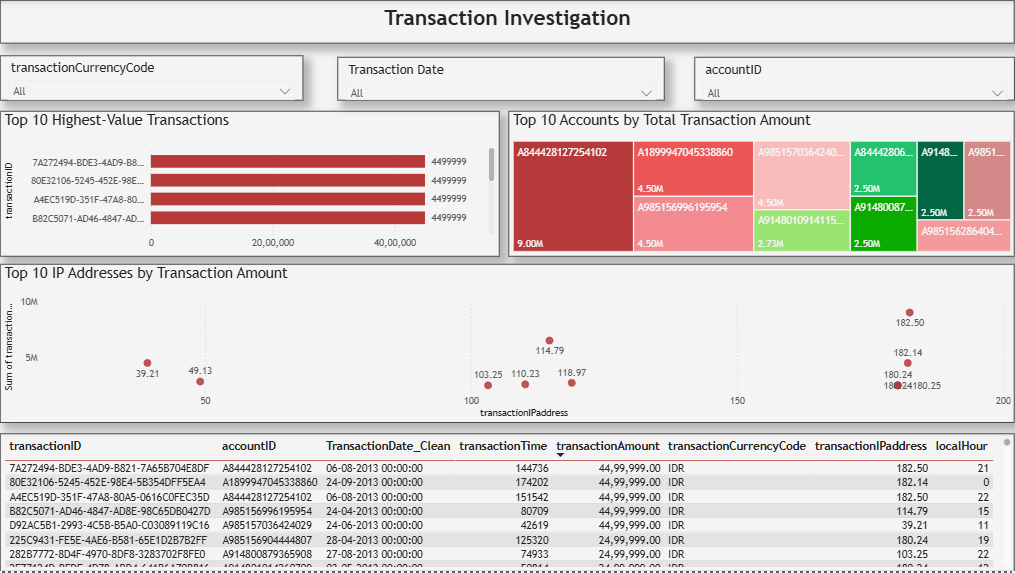

The dashboard page shown, as its layout file describes it:
{"tool":"powerbi","page":{"name":"Transaction Investigation","canvas":[1280,720],"ordinal":2},"visuals":[{"type":"textbox","box":[0,0,1279.4,54.8],"z":0},{"type":"tableEx","fields":{"Values":["fraudanalytics fraud_transactions.transactionID","fraudanalytics fraud_transactions.accountID","fraudanalytics fraud_transactions.TransactionDate_Clean","fraudanalytics fraud_transactions.transactionTime","fraudanalytics fraud_transactions.transactionAmount","fraudanalytics fraud_transactions.transactionCurrencyCode","fraudanalytics fraud_transactions.transactionIPaddress","fraudanalytics fraud_transactions.localHour"]},"box":[0,546.1,1279.4,173.9],"z":1000},{"type":"slicer","fields":{"Values":["fraudanalytics fraud_transactions.transactionCurrencyCode"]},"box":[0,69.9,381.7,56.7],"z":2000},{"type":"slicer","fields":{"Values":["fraudanalytics fraud_transactions.accountID"]},"box":[875,71.8,404.4,54.8],"z":3000},{"type":"clusteredBarChart","title":"Top 10 Highest-Value Transactions","fields":{"Y":["Max(fraudanalytics fraud_transactions.transactionAmount)"],"Category":["fraudanalytics fraud_transactions.transactionID"]},"box":[0,139.8,629.3,183.3],"z":4000},{"type":"slicer","title":"Transaction Date","fields":{"Values":["fraudanalytics fraud_transactions.TransactionDate_Clean"]},"box":[425.2,71.8,412,54.8],"z":5000},{"type":"treemap","title":"Top 10 Accounts by Total Transaction Amount","fields":{"Values":["Sum(fraudanalytics fraud_transactions.transactionAmount)"],"Group":["fraudanalytics fraud_transactions.accountID"]},"box":[640.6,139.8,638.7,183.3],"z":6000},{"type":"scatterChart","title":"Top 10 IP Addresses by Transaction Amount","fields":{"Y":["Sum(fraudanalytics fraud_transactions.transactionAmount)"],"X":["fraudanalytics fraud_transactions.transactionIPaddress"]},"box":[0,332.6,1279.4,200.3],"z":7000}]}

Visuals, with their boxes in screenshot pixels (x1, y1, x2, y2), scaled from the page's 1280x720 canvas onto the 1015x573 screenshot:
textbox: {"x1": 0, "y1": 0, "x2": 1014, "y2": 44}
tableEx - fraudanalytics fraud_transactions.transactionID x fraudanalytics fraud_transactions.accountID: {"x1": 0, "y1": 435, "x2": 1014, "y2": 572}
slicer - fraudanalytics fraud_transactions.transactionCurrencyCode: {"x1": 0, "y1": 56, "x2": 303, "y2": 101}
slicer - fraudanalytics fraud_transactions.accountID: {"x1": 694, "y1": 57, "x2": 1014, "y2": 101}
"Top 10 Highest-Value Transactions" clusteredBarChart: {"x1": 0, "y1": 111, "x2": 499, "y2": 257}
"Transaction Date" slicer: {"x1": 337, "y1": 57, "x2": 664, "y2": 101}
"Top 10 Accounts by Total Transaction Amount" treemap: {"x1": 508, "y1": 111, "x2": 1014, "y2": 257}
"Top 10 IP Addresses by Transaction Amount" scatterChart: {"x1": 0, "y1": 265, "x2": 1014, "y2": 424}
